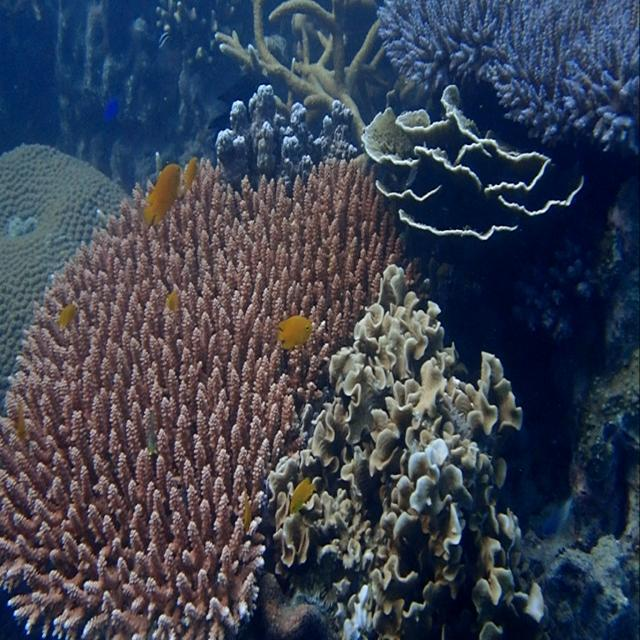Healthy: (1, 139, 391, 640), (272, 247, 519, 640), (372, 1, 640, 159), (374, 96, 579, 253)
